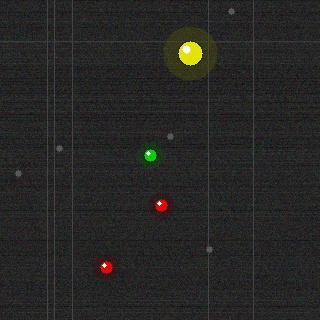green_normal: (142, 147, 158, 163)
red_fault: (98, 259, 114, 275), (153, 197, 169, 213)
yellow_warning: (176, 39, 204, 67)
